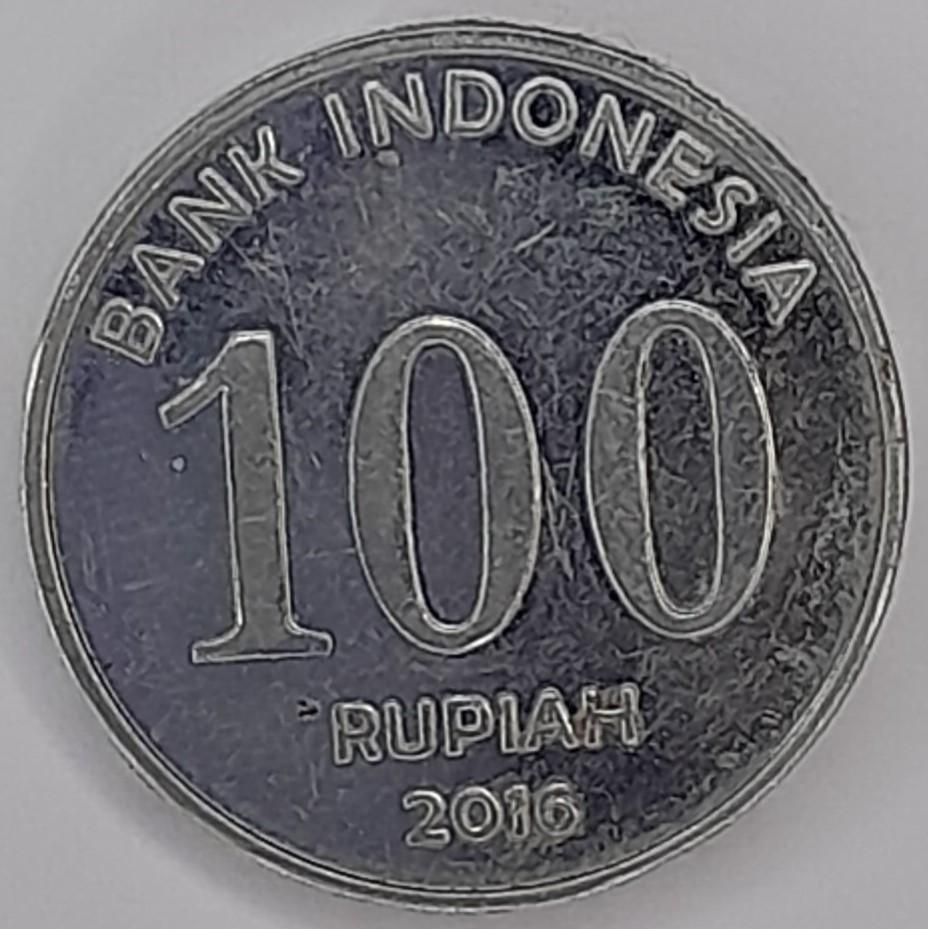coin_100_e2016: (14, 12, 916, 916)
